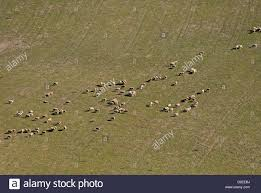sheep: (233, 42, 243, 51), (250, 42, 259, 50), (107, 115, 117, 122), (138, 82, 146, 90), (63, 98, 72, 105), (168, 59, 177, 66), (60, 123, 68, 130), (59, 108, 67, 115), (7, 98, 15, 105), (184, 105, 191, 113), (52, 80, 61, 86), (172, 79, 179, 86), (188, 66, 196, 72), (8, 126, 16, 132), (94, 125, 100, 132), (128, 90, 135, 96), (199, 88, 205, 94), (148, 100, 153, 107), (93, 108, 100, 113), (118, 89, 125, 94), (46, 92, 53, 97), (173, 112, 179, 117)
